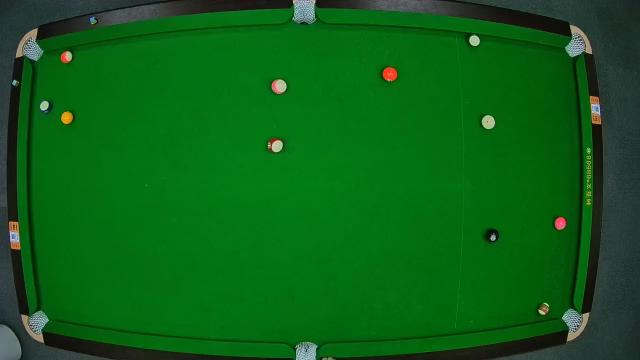bag1: (22, 38, 44, 62)
bag2: (293, 1, 315, 23)
bag3: (566, 34, 586, 57)
bag4: (29, 308, 49, 334)
bag5: (294, 342, 320, 360)
bag6: (562, 310, 582, 332)
ball0: (480, 114, 496, 131)
ball1: (60, 110, 76, 126)
ball10: (38, 100, 56, 114)
ball11: (266, 137, 284, 153)
ball12: (270, 78, 288, 94)
ball13: (58, 47, 74, 64)
ball14: (466, 33, 482, 49)
ball15: (536, 301, 550, 317)
ball4: (553, 216, 569, 231)
ball5: (382, 66, 398, 84)
ball8: (486, 228, 500, 243)
